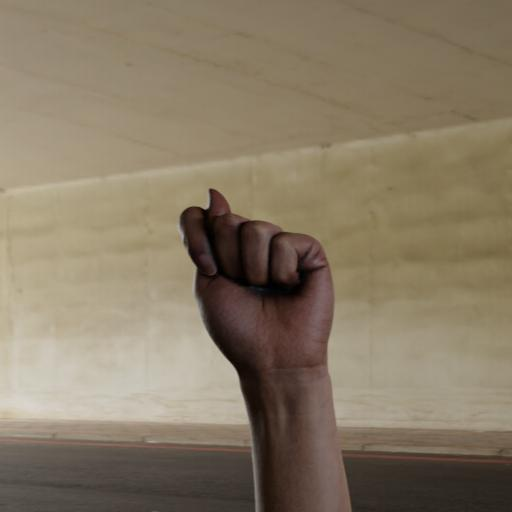T: (175, 180, 363, 457)
